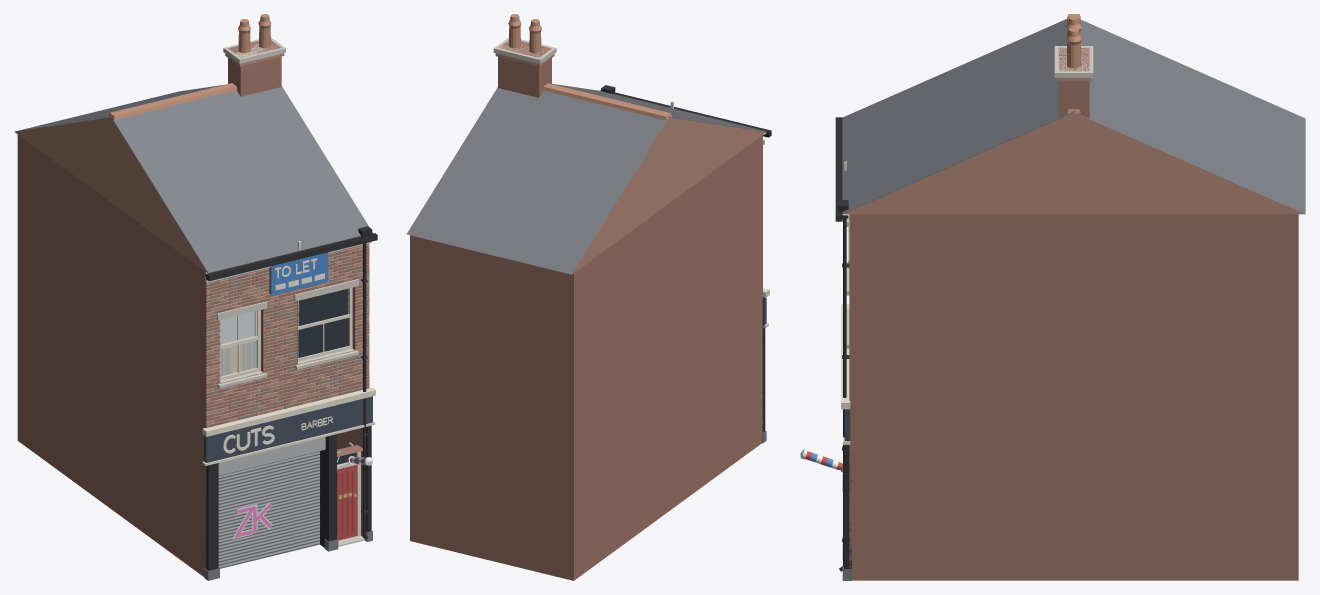
File: exterior_terrace_b.fbx
The picture shows the model from 3 angles, left to right: view 1: azimuth 30°, elevation 25°; view 2: azimuth 150°, elevation 25°; view 3: azimuth 270°, elevation 25°; orthographic projection. The views are drawn at different scales.
Visible parts, largest first — view 1: exterior_terrace_b; view 2: exterior_terrace_b; view 3: exterior_terrace_b.
Boxes of the visible parts, x1,y1,x2,y2 form: exterior_terrace_b: [14, 14, 377, 580]; exterior_terrace_b: [407, 14, 771, 580]; exterior_terrace_b: [800, 14, 1305, 580].
Size of the model in its own units: 4.16 by 10.7 by 8.99.
